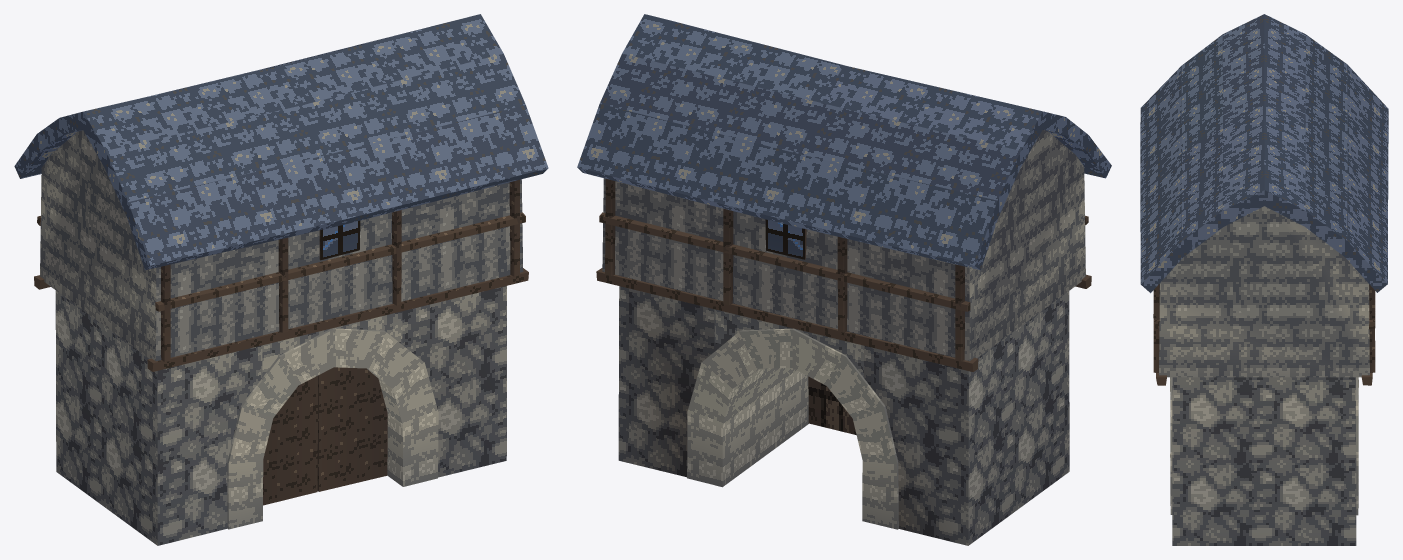
Rendered from vlg.gatehouse.glb.
The picture shows the model from 3 angles, left to right: view 1: azimuth 30°, elevation 25°; view 2: azimuth 150°, elevation 25°; view 3: azimuth 270°, elevation 25°; orthographic projection. The views are drawn at different scales.
Parts seen in each view (by area): view 1: kit_roof, kit_stonework, kit_walls, kit_fittings, kit_frame; view 2: kit_roof, kit_stonework, kit_walls, kit_frame, kit_fittings; view 3: kit_roof, kit_stonework, kit_walls, kit_frame.
Part boxes in pixels (<box>): kit_roof: <box>14,14,548,270</box>; kit_stonework: <box>55,286,506,545</box>; kit_walls: <box>40,130,523,361</box>; kit_fittings: <box>263,220,387,505</box>; kit_frame: <box>34,180,528,371</box>; kit_roof: <box>577,14,1111,270</box>; kit_stonework: <box>618,286,1069,545</box>; kit_walls: <box>602,130,1085,361</box>; kit_frame: <box>596,179,1091,371</box>; kit_fittings: <box>765,219,856,434</box>; kit_roof: <box>1140,14,1388,293</box>; kit_stonework: <box>1170,377,1358,545</box>; kit_walls: <box>1159,206,1369,377</box>; kit_frame: <box>1153,284,1375,385</box>.
Bounding box in the file's own units: 9.12 × 8.82 × 5.41.
8 materials, 8 textured.
